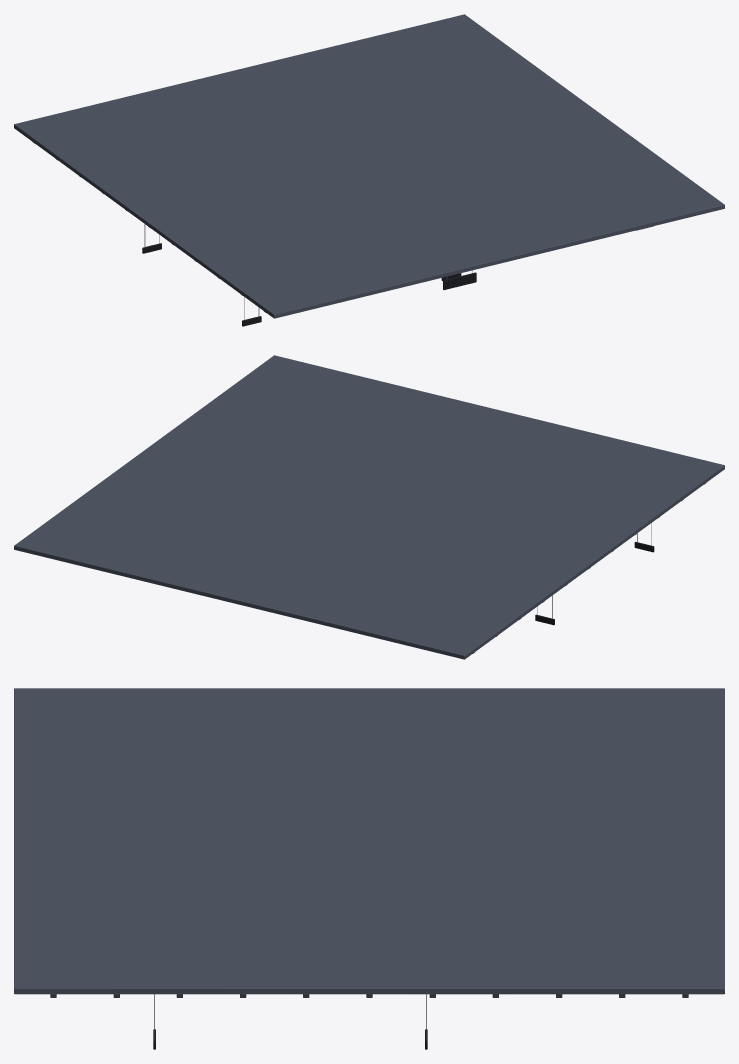
The model's file is ceiling.glb.
3 views of the same model, one above another, from view 1: azimuth 30°, elevation 25°; view 2: azimuth 150°, elevation 25°; view 3: azimuth 270°, elevation 25° (orthographic). The views are drawn at different scales.
Visible parts, largest first — view 1: ceiling; view 2: ceiling; view 3: ceiling.
Boxes of the visible parts, x1=… form: ceiling: x1=14, y1=14, x2=724, y2=326; ceiling: x1=14, y1=355, x2=724, y2=659; ceiling: x1=14, y1=688, x2=724, y2=1049.
Bounding box in the file's own units: 45 × 5.3 × 45.
